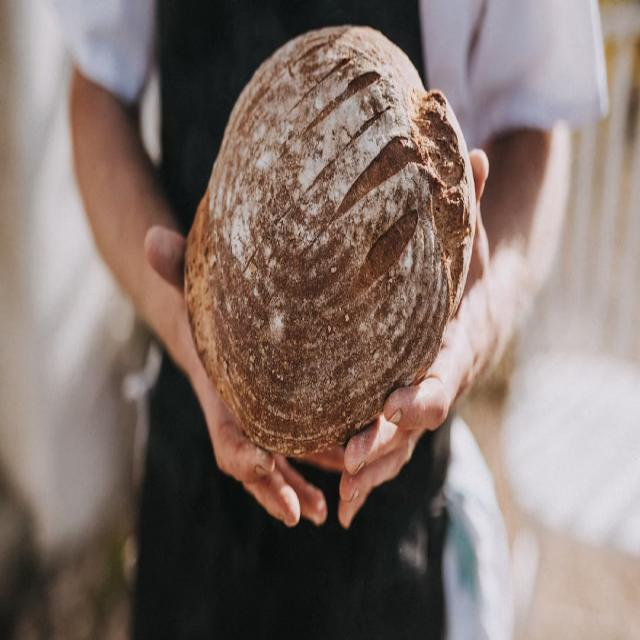Maltese-Bread: (188, 31, 475, 444)
